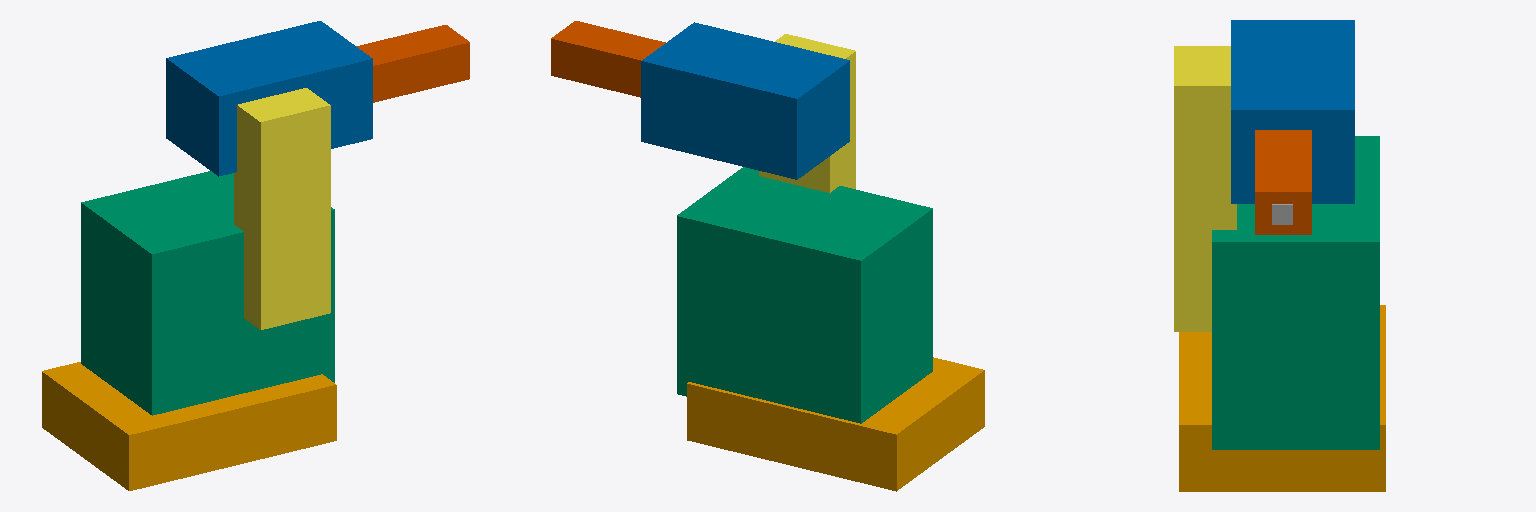
URDF robot description (abb_irb52_7_120):
<?xml version="1.0"?>
<robot name="abb_irb52_7_120"
       xmlns:xi="http://www.w3.org/2001/XInclude">
  <link name="base_link">
    <visual>
      <origin xyz="-0.052131 0.000131004 0.0855" rpy="0 -0 0"/>
      <geometry>
         <box size="0.660262 0.483268 0.171"/>
      </geometry>
    </visual>
    <collision>
      <origin xyz="-0.052131 0.000131004 0.0855" rpy="0 -0 0"/>
      <geometry>
         <box size="0.660262 0.483268 0.171"/>
      </geometry>
    </collision>
  </link>
  <link name="base">
  </link>
  <link name="link_1">
    <visual>
      <origin xyz="0.0271685 0.0329565 -0.0935005" rpy="0 -0 0"/>
      <geometry>
         <box size="0.582649 0.391913 0.536999"/>
      </geometry>
    </visual>
    <collision>
      <origin xyz="0.0271685 0.0329565 -0.0935005" rpy="0 -0 0"/>
      <geometry>
         <box size="0.582649 0.391913 0.536999"/>
      </geometry>
    </collision>
  </link>
  <link name="link_2">
    <visual>
      <origin xyz="-0.0088293 -0.1795 0.228161" rpy="0 -0 0"/>
      <geometry>
         <box size="0.223339 0.146 0.632866"/>
      </geometry>
    </visual>
    <collision>
      <origin xyz="-0.0088293 -0.1795 0.228161" rpy="0 -0 0"/>
      <geometry>
         <box size="0.223339 0.146 0.632866"/>
      </geometry>
    </collision>
  </link>
  <link name="link_3">
    <visual>
      <origin xyz="0.0681975 0.0243125 -0.0139365" rpy="0 -0 0"/>
      <geometry>
         <box size="0.491605 0.288625 0.243813"/>
      </geometry>
    </visual>
    <collision>
      <origin xyz="0.0681975 0.0243125 -0.0139365" rpy="0 -0 0"/>
      <geometry>
         <box size="0.491605 0.288625 0.243813"/>
      </geometry>
    </collision>
  </link>
  <link name="link_4">
    <visual>
      <origin xyz="0.485 0.0027625 -5.02914e-08" rpy="0 -0 0"/>
      <geometry>
         <box size="0.342 0.134475 0.112"/>
      </geometry>
    </visual>
    <collision>
      <origin xyz="0.485 0.0027625 -5.02914e-08" rpy="0 -0 0"/>
      <geometry>
         <box size="0.342 0.134475 0.112"/>
      </geometry>
    </collision>
  </link>
  <link name="link_5">
    <visual>
      <origin xyz="-2.38419e-08 0 2.78503e-05" rpy="0 -0 0"/>
      <geometry>
         <box size="0.084 0.0273 0.0839443"/>
      </geometry>
    </visual>
    <collision>
      <origin xyz="-2.38419e-08 0 2.78503e-05" rpy="0 -0 0"/>
      <geometry>
         <box size="0.084 0.0273 0.0839443"/>
      </geometry>
    </collision>
  </link>
  <link name="link_6">
    <visual>
      <origin xyz="-0.0325 0 -5.02914e-08" rpy="0 -0 0"/>
      <geometry>
         <box size="0.065 0.0499682 0.0499901"/>
      </geometry>
    </visual>
    <collision>
      <origin xyz="-0.0325 0 -5.02914e-08" rpy="0 -0 0"/>
      <geometry>
         <box size="0.065 0.0499682 0.0499901"/>
      </geometry>
    </collision>
  </link>
  <link name="tool0">
  </link>
  <joint name="base_link-base" type="fixed">
    <parent link="base_link"/>
    <child  link="base"/>
    <origin xyz="0 0 0" rpy="0 -0 0 "/>
    <axis   xyz="0 0 0"/>
    <limit lower="0" upper="0" effort="100" velocity="0.5" />
    <dynamics damping="0.2" friction="0" />
  </joint>
  <joint name="joint_1" type="revolute">
    <parent link="base_link"/>
    <child  link="link_1"/>
    <origin xyz="0 0 0.4865" rpy="0 -0 0 "/>
    <axis   xyz="0 0 1"/>
    <limit lower="-3.14159" upper="3.14159" effort="100" velocity="3.14159" />
    <dynamics damping="0.2" friction="0" />
  </joint>
  <joint name="joint_2" type="revolute">
    <parent link="link_1"/>
    <child  link="link_2"/>
    <origin xyz="0.15 0 0" rpy="0 -0 0 "/>
    <axis   xyz="0 1 0"/>
    <limit lower="-1.09956" upper="1.91986" effort="100" velocity="3.14159" />
    <dynamics damping="0.2" friction="0" />
  </joint>
  <joint name="joint_3" type="revolute">
    <parent link="link_2"/>
    <child  link="link_3"/>
    <origin xyz="0 0 0.475" rpy="0 -0 0 "/>
    <axis   xyz="0 1 0"/>
    <limit lower="-4.10152" upper="0.959931" effort="100" velocity="3.14159" />
    <dynamics damping="0.2" friction="0" />
  </joint>
  <joint name="joint_4" type="revolute">
    <parent link="link_3"/>
    <child  link="link_4"/>
    <origin xyz="0 0 0" rpy="0 -0 0 "/>
    <axis   xyz="1 0 0"/>
    <limit lower="-3.49066" upper="3.49066" effort="100" velocity="3.14159" />
    <dynamics damping="0.2" friction="0" />
  </joint>
  <joint name="joint_5" type="revolute">
    <parent link="link_4"/>
    <child  link="link_5"/>
    <origin xyz="0.6 0 0" rpy="0 -0 0 "/>
    <axis   xyz="0 1 0"/>
    <limit lower="-2.00713" upper="2.00713" effort="100" velocity="3.14159" />
    <dynamics damping="0.2" friction="0" />
  </joint>
  <joint name="joint_6" type="revolute">
    <parent link="link_5"/>
    <child  link="link_6"/>
    <origin xyz="0.065 0 0" rpy="0 -0 0 "/>
    <axis   xyz="1 0 0"/>
    <limit lower="-6.98132" upper="6.98132" effort="100" velocity="3.14159" />
    <dynamics damping="0.2" friction="0" />
  </joint>
  <joint name="joint_6-tool0" type="fixed">
    <parent link="link_6"/>
    <child  link="tool0"/>
    <origin xyz="0 0 0" rpy="0 1.5708 -0 "/>
    <axis   xyz="0 0 0"/>
    <limit lower="0" upper="0" effort="100" velocity="0.5" />
    <dynamics damping="0.2" friction="0" />
  </joint>
</robot>

--- Render facts (derived) ---
The picture shows the robot from 3 angles, left to right: view 1: azimuth 30°, elevation 25°; view 2: azimuth 150°, elevation 25°; view 3: azimuth 270°, elevation 25°; orthographic projection.
Model abb_irb52_7_120 with 9 links and 8 joints (6 revolute, 2 fixed), rooted at base_link, posed every joint at zero.
Visible links, largest first — view 1: link_1, base_link, link_2, link_3, link_4; view 2: link_1, link_3, base_link, link_4, link_2; view 3: link_1, link_3, link_2, base_link, link_4.
Link boxes in pixels (x1,y1,x2,y2): link_1: (81, 171, 334, 415); base_link: (42, 362, 336, 490); link_2: (234, 88, 330, 329); link_3: (166, 21, 372, 176); link_4: (356, 25, 469, 102); link_1: (677, 167, 932, 423); link_3: (641, 22, 849, 179); base_link: (687, 357, 984, 491); link_4: (551, 21, 665, 97); link_2: (759, 34, 855, 192); link_1: (1212, 136, 1379, 449); link_3: (1231, 20, 1354, 203); link_2: (1174, 46, 1236, 331); base_link: (1179, 305, 1385, 491); link_4: (1255, 130, 1311, 234).
Bounding box of the posed robot: 1.2 × 0.4943 × 1.07 m (x, y, z).
Geometry: primitives only (box / cylinder / sphere), no mesh files.